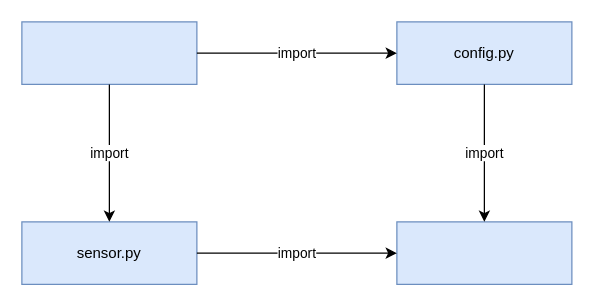
Some shapes in this 594 by 306 pixel diagram are drawn without their labels. The box of each missing label's shape, as (x1, y1, x2, y2) in pixels:
driver.py: (396, 221, 572, 284)
main.py: (21, 21, 197, 84)
